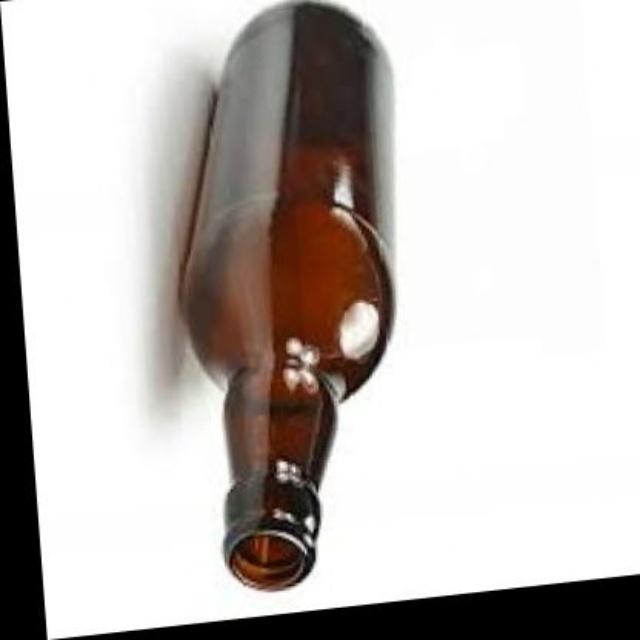trash: (178, 3, 392, 589)
